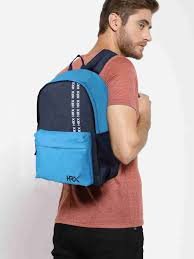backpack: (33, 48, 121, 190)
